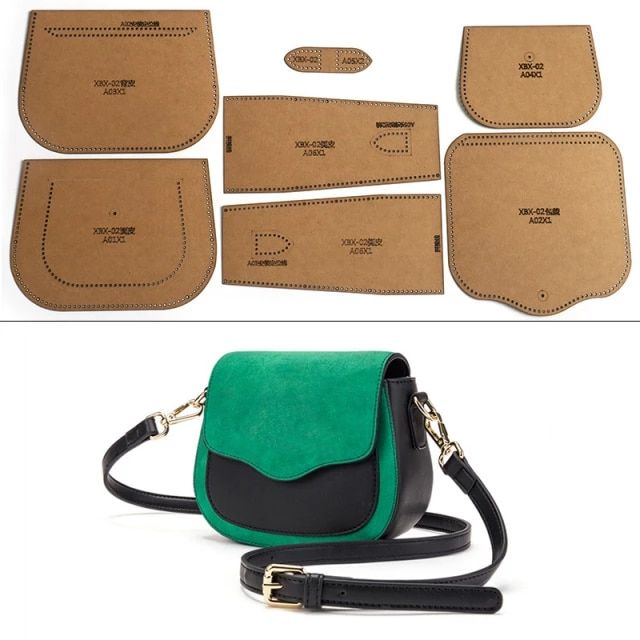cuero: (100, 350, 508, 613)
